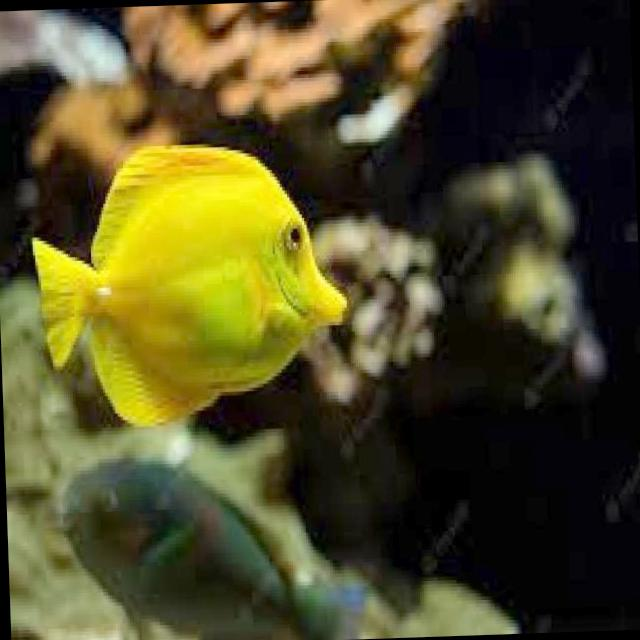TangFish: (27, 138, 354, 432)
